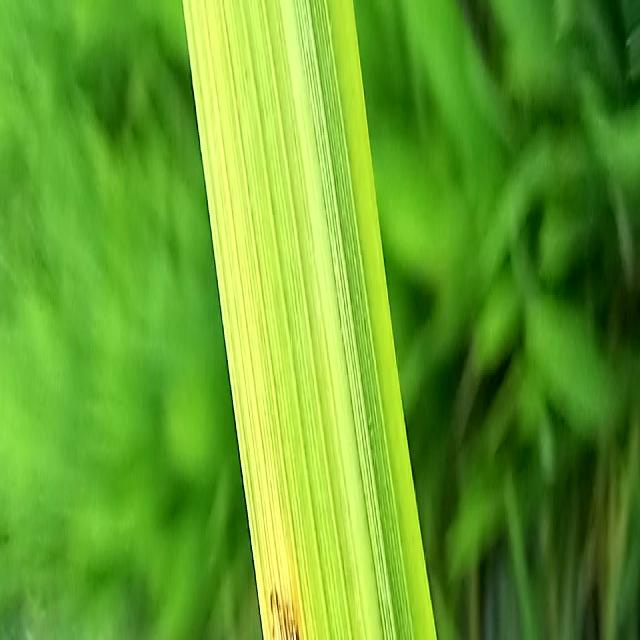LEAF BLAST: (272, 592, 301, 640)
